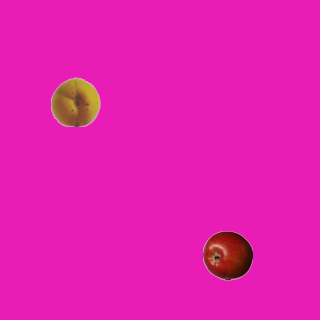Apple Braeburn: (202, 230, 252, 280)
Peach 2: (50, 76, 100, 126)
